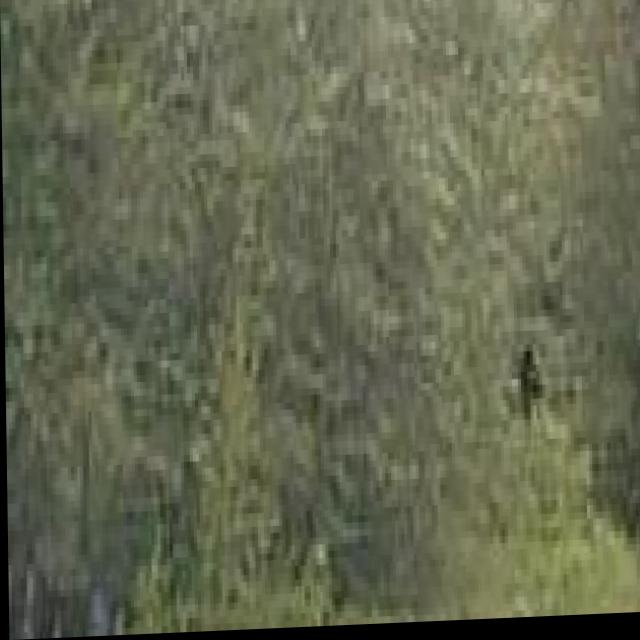nofire: (0, 0, 640, 640)
